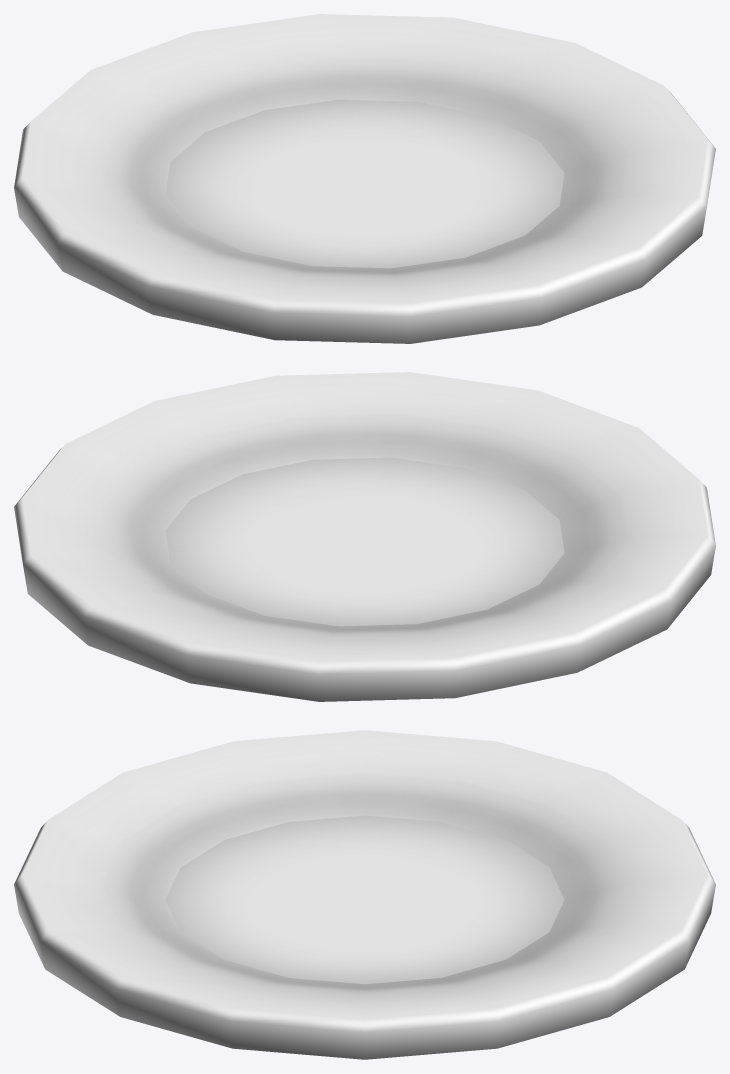
The model's file is 005-Plate.FBX.
The picture shows the model from 3 angles, top to bottom: view 1: azimuth 30°, elevation 25°; view 2: azimuth 150°, elevation 25°; view 3: azimuth 270°, elevation 25°; orthographic projection.
Parts seen in each view (by area): view 1: 005-Plate; view 2: 005-Plate; view 3: 005-Plate.
Part boxes in pixels (<box>): 005-Plate: <box>14,14,715,343</box>; 005-Plate: <box>14,372,715,701</box>; 005-Plate: <box>14,730,715,1059</box>.
Size of the model in its own units: 26.15 by 3.07 by 26.15.
